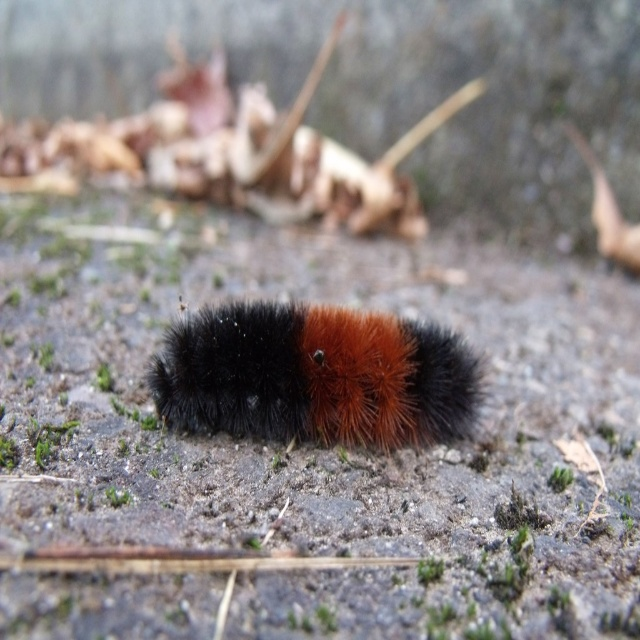Caterpillar: (141, 297, 492, 454)
